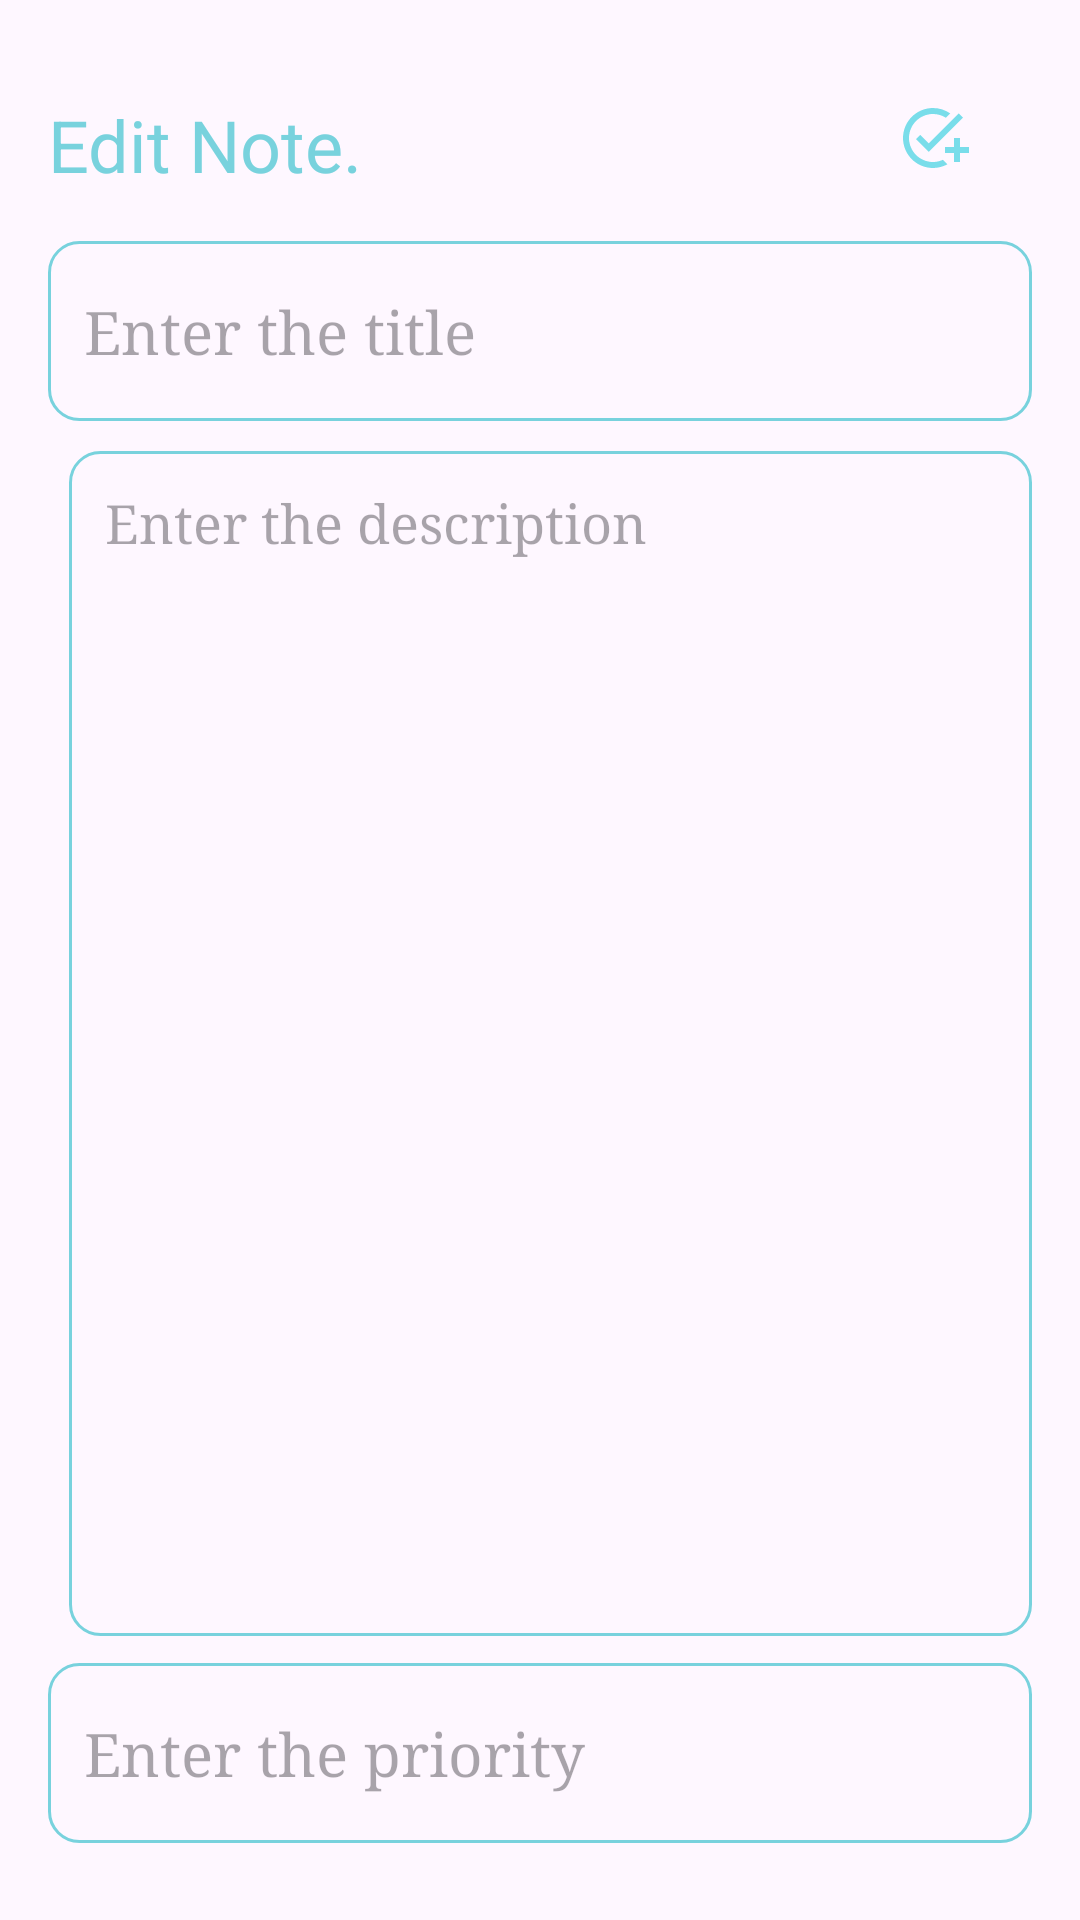

Where to tap for icons on this 1080*1920 app screen, as (x,y):
add task: (936,138)
